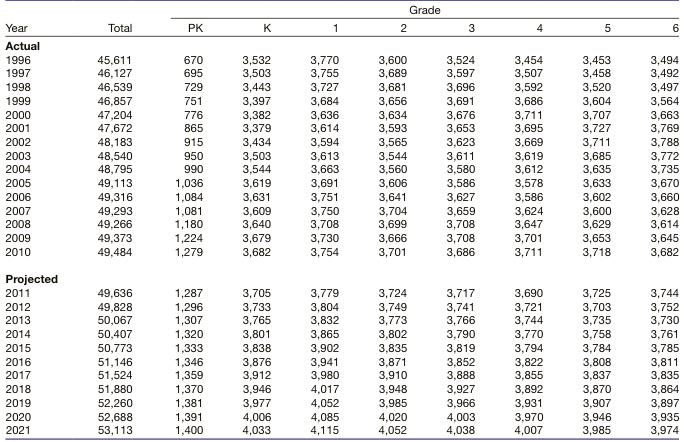table: (4, 3, 678, 435)
table column: (63, 3, 152, 435), (152, 3, 222, 435), (222, 3, 290, 435), (290, 3, 358, 435), (358, 3, 426, 435), (426, 3, 494, 435), (494, 3, 562, 435), (562, 3, 630, 435), (4, 3, 63, 435), (630, 3, 678, 435)
table column header: (4, 3, 678, 36)
table projected row header: (4, 265, 678, 285), (4, 36, 678, 52)
table row: (4, 244, 678, 265), (4, 265, 678, 285), (4, 18, 678, 36), (4, 36, 678, 52), (4, 3, 678, 18), (4, 52, 678, 66), (4, 66, 678, 80), (4, 93, 678, 107), (4, 107, 678, 121), (4, 121, 678, 135), (4, 148, 678, 162), (4, 162, 678, 176), (4, 189, 678, 203), (4, 203, 678, 217), (4, 217, 678, 231), (4, 285, 678, 299), (4, 299, 678, 313), (4, 313, 678, 327), (4, 340, 678, 354), (4, 354, 678, 368), (4, 368, 678, 382), (4, 395, 678, 409), (4, 409, 678, 423), (4, 80, 678, 93), (4, 135, 678, 148), (4, 176, 678, 189), (4, 231, 678, 244), (4, 327, 678, 340), (4, 382, 678, 395), (4, 423, 678, 435)
table spanning cell: (152, 3, 678, 18), (63, 3, 152, 36), (4, 3, 63, 36)
